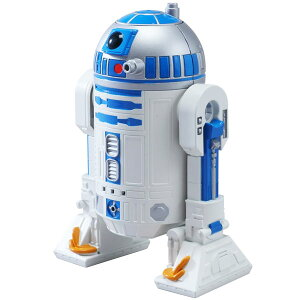r2d2: (55, 3, 251, 298)
